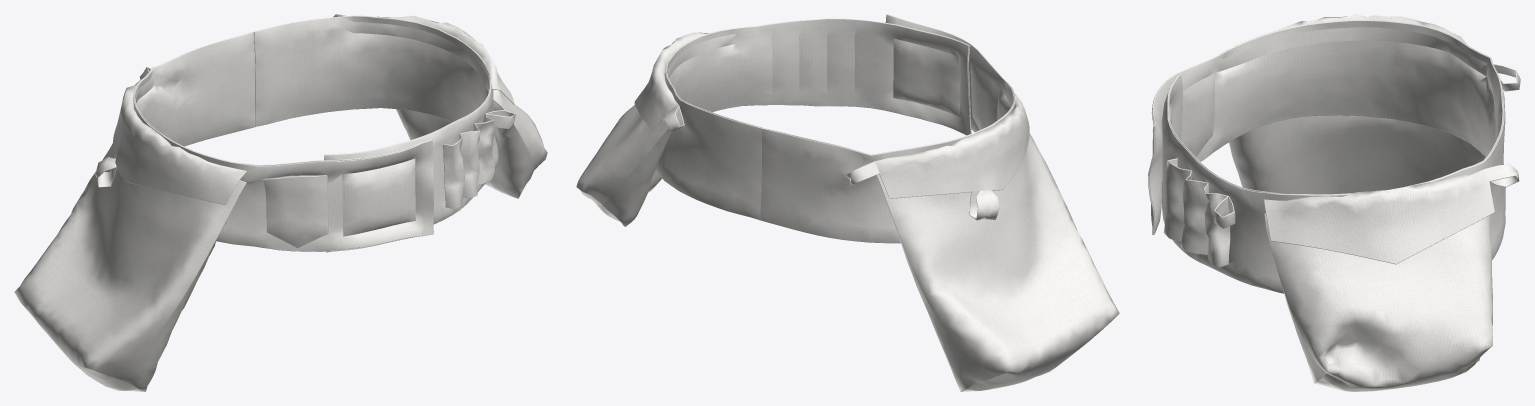
The picture shows the model from 3 angles, left to right: view 1: azimuth 30°, elevation 25°; view 2: azimuth 150°, elevation 25°; view 3: azimuth 270°, elevation 25°; orthographic projection. The views are drawn at different scales.
Parts seen in each view (by area): view 1: Pattern2D_16619, Pattern2D_40948 (×2), Pattern2D_40963 (×2), Pattern2D_23540, Pattern2D_36400, Pattern2D_27654, Pattern2D_36398, Pattern2D_16618, Pattern2D_36379, Pattern2D_27655, Pattern2D_40964; view 2: Pattern2D_40963 (×2), Pattern2D_16619, Pattern2D_40948 (×2), Pattern2D_23540, Pattern2D_36379, Pattern2D_36398, Pattern2D_16618, Pattern2D_27655, Pattern2D_40964; view 3: Pattern2D_40948 (×2), Pattern2D_36379, Pattern2D_16618, Pattern2D_27655, Pattern2D_40963 (×2), Pattern2D_27654, Pattern2D_36398, Pattern2D_23540, Pattern2D_36399, Pattern2D_26878, Pattern2D_40965.
Part boxes in pixels (x1,y1,x2,y2): Pattern2D_16619: (14, 143, 246, 381); Pattern2D_40948 (×2): (133, 32, 433, 251); Pattern2D_40963 (×2): (253, 15, 498, 252); Pattern2D_23540: (113, 80, 247, 205); Pattern2D_36400: (263, 175, 327, 248); Pattern2D_27654: (443, 114, 494, 209); Pattern2D_36398: (396, 100, 534, 198); Pattern2D_16618: (83, 195, 239, 391); Pattern2D_36379: (493, 89, 547, 170); Pattern2D_27655: (377, 15, 514, 104); Pattern2D_40964: (95, 153, 116, 187); Pattern2D_40963 (×2): (655, 18, 971, 220); Pattern2D_16619: (876, 133, 1119, 382); Pattern2D_40948 (×2): (760, 14, 1015, 243); Pattern2D_23540: (875, 93, 1029, 198); Pattern2D_36379: (576, 105, 668, 207); Pattern2D_36398: (599, 129, 671, 226); Pattern2D_16618: (881, 185, 1070, 391); Pattern2D_27655: (634, 32, 708, 129); Pattern2D_40964: (969, 190, 999, 220); Pattern2D_40948 (×2): (1148, 20, 1505, 234); Pattern2D_36379: (1264, 213, 1492, 389); Pattern2D_16618: (1229, 115, 1485, 194); Pattern2D_27655: (1264, 169, 1494, 264); Pattern2D_40963 (×2): (1162, 73, 1505, 293); Pattern2D_27654: (1163, 158, 1230, 267); Pattern2D_36398: (1273, 257, 1479, 391); Pattern2D_23540: (1279, 14, 1466, 43); Pattern2D_36399: (1484, 164, 1519, 187); Pattern2D_26878: (1214, 196, 1235, 228); Pattern2D_40965: (1493, 64, 1520, 91).
Bounding box in the file's own units: 42.09 × 20.7 × 24.72.
